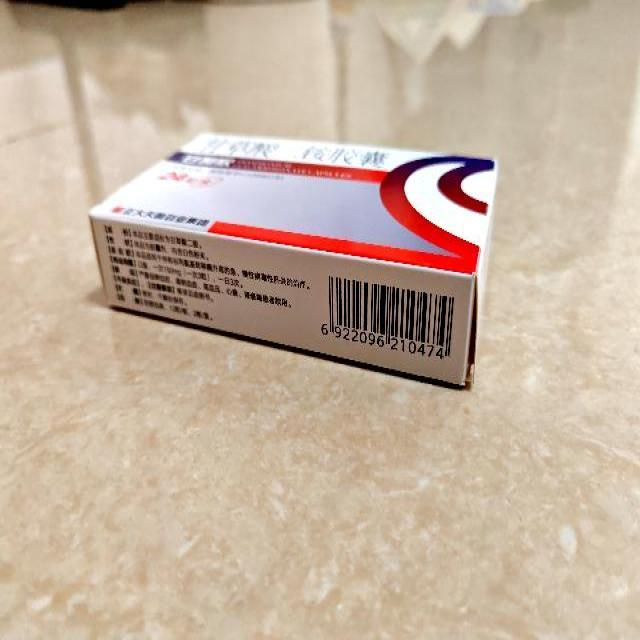box: (88, 130, 500, 390)
